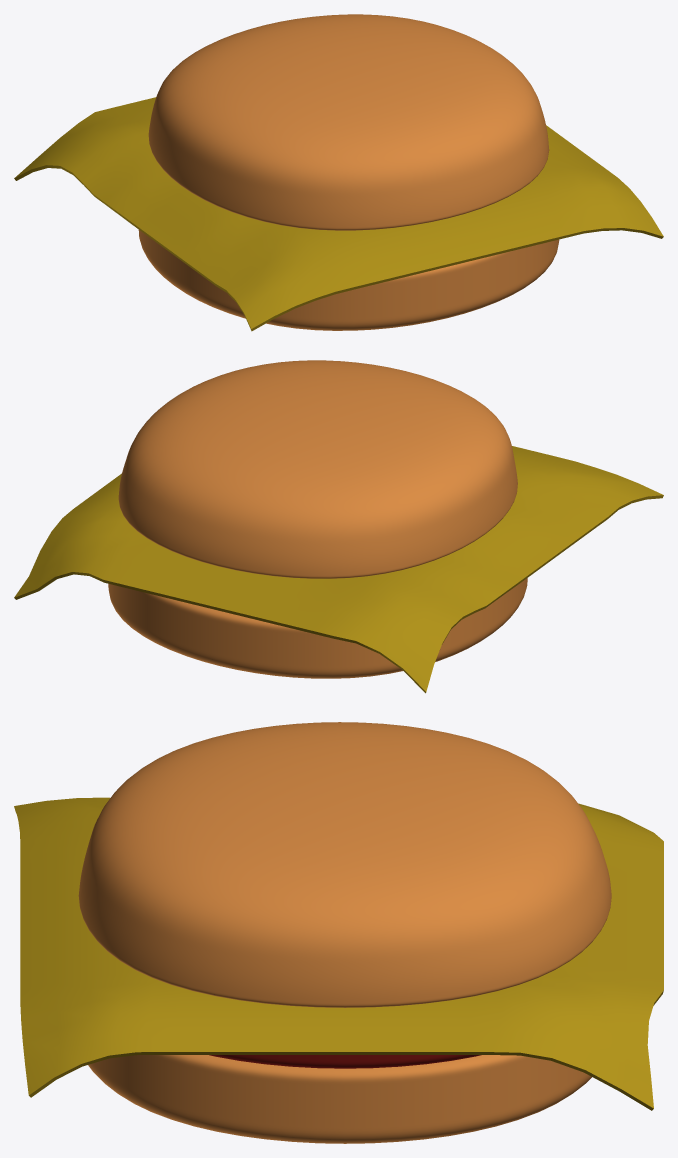
Rendered from hamburger.glb.
3 views of the same model, one above another, from view 1: azimuth 30°, elevation 25°; view 2: azimuth 150°, elevation 25°; view 3: azimuth 270°, elevation 25° (orthographic). The views are drawn at different scales.
Parts seen in each view (by area): view 1: top bun, Plane, bottom bun; view 2: top bun, Plane, bottom bun; view 3: top bun, Plane, bottom bun, meat.
Boxes of the visible parts, x1=… form: top bun: x1=148, y1=14, x2=549, y2=230; Plane: x1=14, y1=97, x2=663, y2=331; bottom bun: x1=138, y1=230, x2=559, y2=330; top bun: x1=118, y1=360, x2=517, y2=578; Plane: x1=14, y1=446, x2=663, y2=693; bottom bun: x1=108, y1=578, x2=527, y2=678; top bun: x1=78, y1=722, x2=611, y2=1007; Plane: x1=14, y1=797, x2=663, y2=1110; bottom bun: x1=88, y1=1055, x2=591, y2=1143; meat: x1=209, y1=1055, x2=481, y2=1068.
Size of the model in its own units: 10.89 by 4.88 by 11.03.
